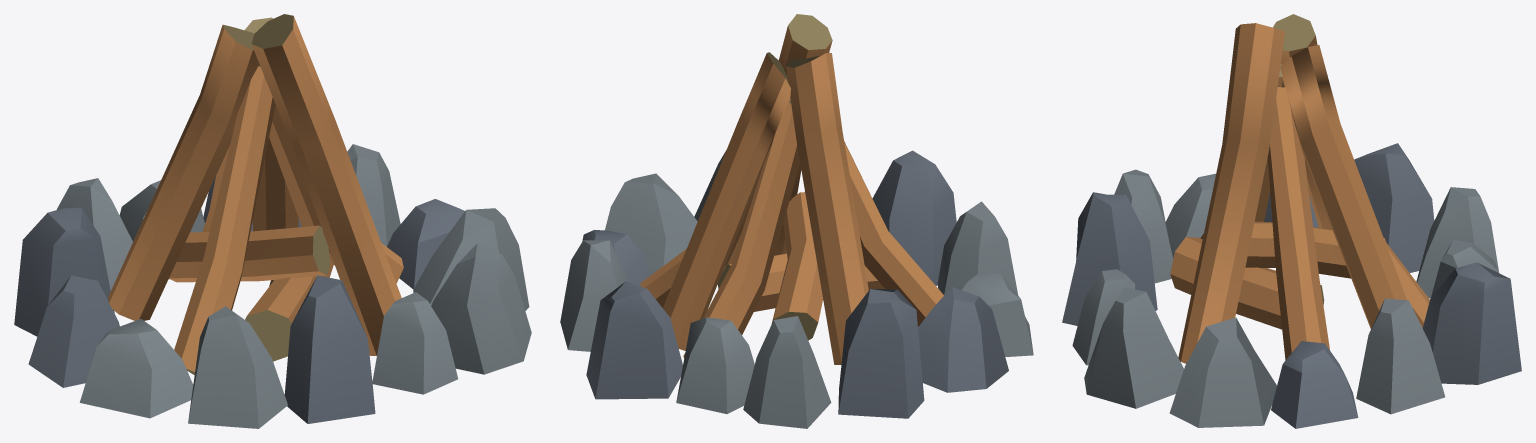
File: Bonfire_Long.fbx
The picture shows the model from 3 angles, left to right: view 1: azimuth 30°, elevation 25°; view 2: azimuth 150°, elevation 25°; view 3: azimuth 270°, elevation 25°; orthographic projection. The views are drawn at different scales.
Visible parts, largest first — view 1: Bonfire1; view 2: Bonfire1; view 3: Bonfire1.
Part boxes in pixels (bbox=[...]): Bonfire1: bbox=[14, 14, 531, 428]; Bonfire1: bbox=[560, 14, 1033, 428]; Bonfire1: bbox=[1062, 14, 1521, 428].
Size of the model in its own units: 105 by 75.19 by 97.46.
